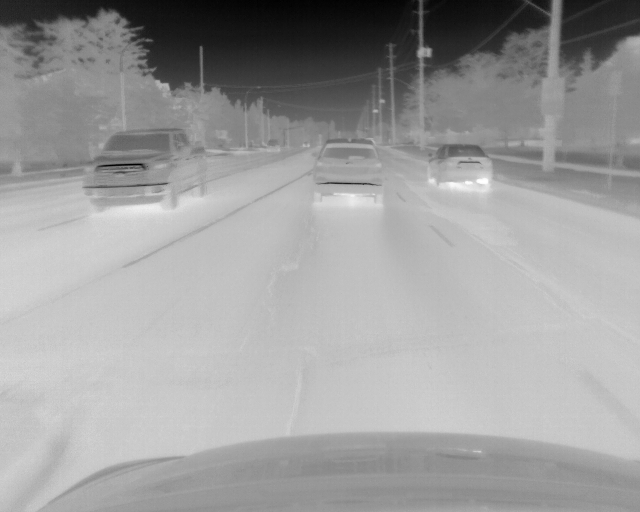car: (81, 127, 209, 213), (312, 136, 383, 207), (427, 144, 491, 191)
